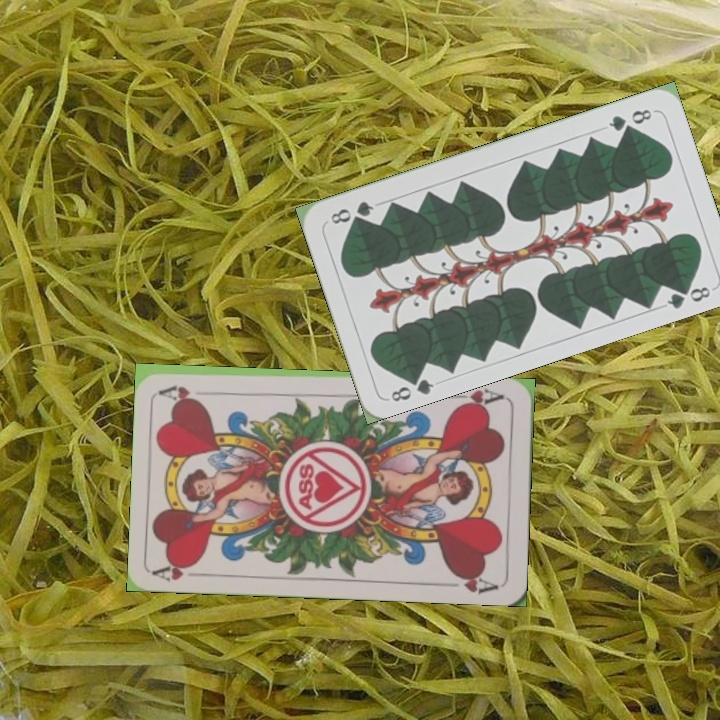G8: (386, 369, 437, 405), (604, 105, 655, 134)
HA: (152, 557, 211, 584), (449, 384, 506, 411)
